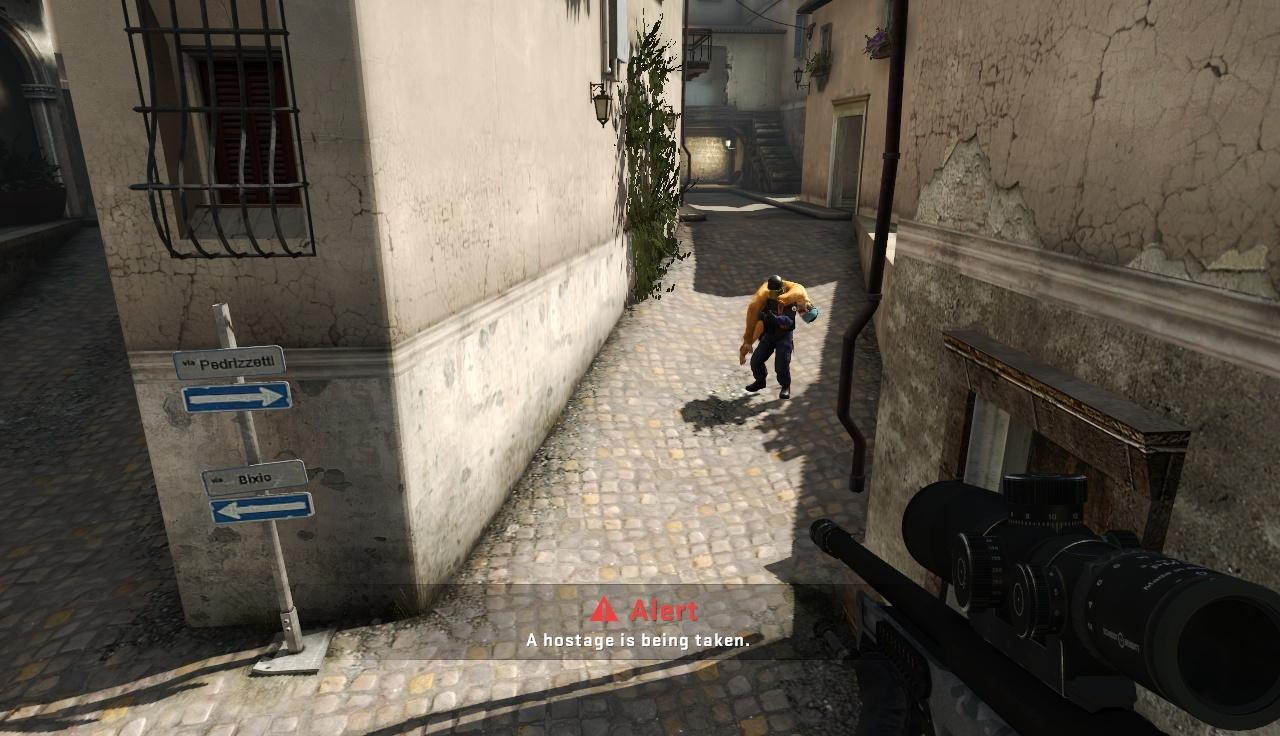ct: (748, 275, 793, 398)
cthead: (767, 276, 786, 299)
sniper: (805, 473, 1280, 736)
